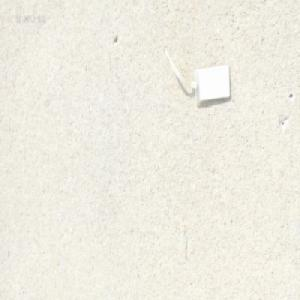LuggageTag: (157, 47, 230, 108)
